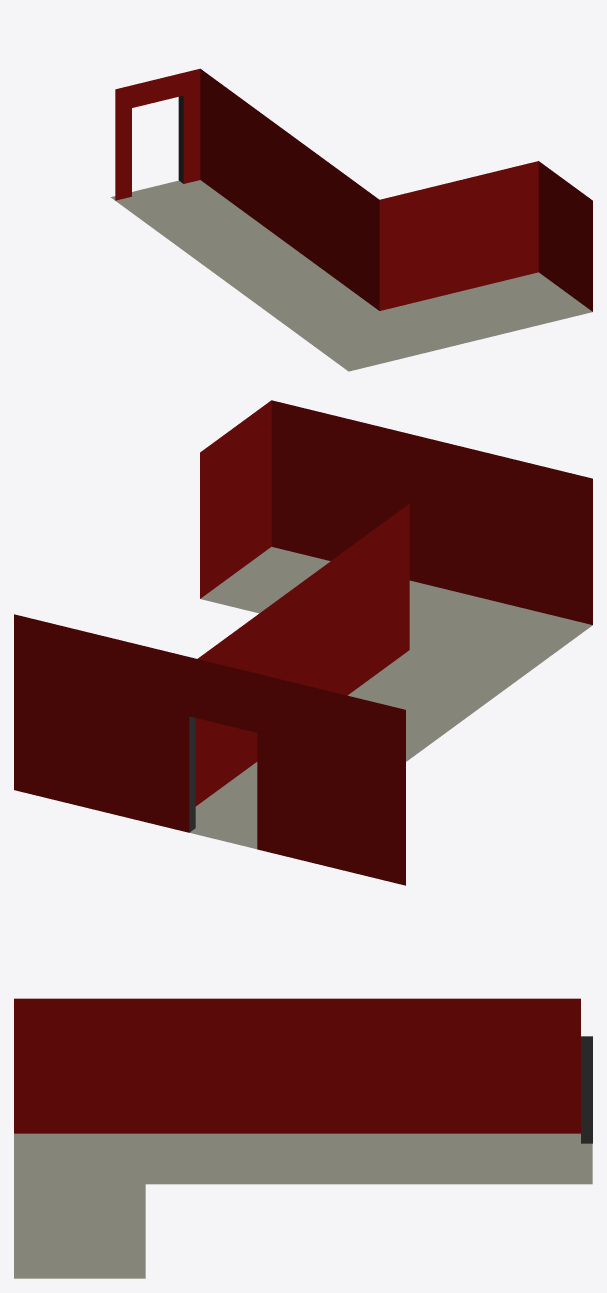
The model's file is bar-corridor.glb.
3 views of the same model, one above another, from view 1: azimuth 30°, elevation 25°; view 2: azimuth 150°, elevation 25°; view 3: azimuth 270°, elevation 25° (orthographic). The views are drawn at different scales.
Visible parts, largest first — view 1: wall_1; view 2: wall_1; view 3: wall_1.
Boxes of the visible parts, left/top/right/bottom form: wall_1: left=110, top=68, right=592, bottom=371; wall_1: left=14, top=400, right=592, bottom=885; wall_1: left=14, top=998, right=592, bottom=1278.
Size of the model in its own units: 8 by 3 by 9.7.
